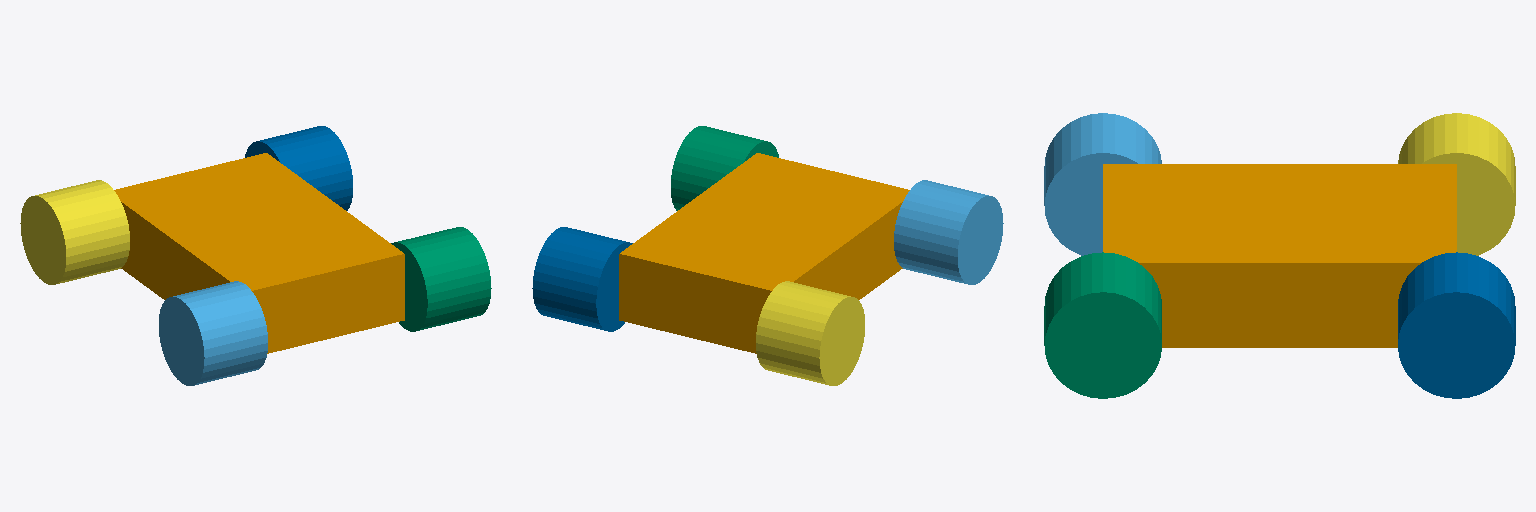
URDF robot description (test_robot):
<?xml version="1.0"?>
<robot name="test_robot">

  <link name="chassis">
    <inertial>
      <mass value="4.0" />
      <!-- center of mass (com) is defined w.r.t. link local coord system -->
      <origin xyz="0 0 0" />
      <inertia  ixx="1.0" ixy="0.0"  ixz="0.0"  iyy="100.0"  iyz="0.0"  izz="1.0" />
    </inertial>
    <visual>
       <!-- visual origin is defined w.r.t. link local coordinate system -->
       <origin xyz="0 0 0" rpy="0 0 0" />
       <geometry>
         <box size="0.5 0.75 0.2" />
       </geometry>
    </visual>
    <collision>
       <!-- collision origin is defined w.r.t. link local coord. system -->
       <origin xyz="0 0 0" rpy="0 0 0 " />
       <geometry>
         <box size="0.5 0.75 0.2" />
       </geometry>
    </collision>     
  </link>
  <gazebo reference="chassis">
    <material>Gazebo/Blue</material>
    <turnGravityOff>false</turnGravityOff>
  </gazebo>


  <link name="back_left_wheel">
    <inertial>
      <mass value="1.0" />
      <!-- center of mass (com) is defined w.r.t. link local coord system -->
      <origin xyz="0 0 0" />
      <inertia  ixx="1.0" ixy="0.0"  ixz="0.0"  iyy="100.0"  iyz="0.0"  izz="1.0" />
    </inertial>
    <visual>
       <!-- visual origin is defined w.r.t. link local coordinate system -->
       <origin xyz="0 0 0" rpy="0 0 0" />
       <geometry>
         <cylinder radius="0.125" length="0.2" />
       </geometry>
    </visual>
    <collision>
       <!-- collision origin is defined w.r.t. link local coord. system -->
       <origin xyz="0 0 0" rpy="0 0 0 " />
       <geometry>
         <cylinder radius="0.125" length="0.2" />
       </geometry>
    </collision>
  </link>
  <gazebo reference="back_left_wheel">
    <mu1>0.25</mu1>
    <mu2>0.025</mu2>
    <kp>10000.0</kp>
    <kd>1.0</kd>
    <material>Gazebo/Green</material>
    <turnGravityOff>false</turnGravityOff>
  </gazebo>

  <joint name="joint_back_left_wheel" type="continuous">
    <parent link="chassis"/>
    <child link="back_left_wheel"/>
    <origin xyz="-0.35 -0.375 0" rpy="0 -1.5708 0" />
    <axis xyz="0 0 1" />
  </joint>

  <link name="back_right_wheel">
    <inertial>
      <mass value="1.0" />
      <origin xyz="0 0 0" />
      <inertia  ixx="1.0" ixy="0.0"  ixz="0.0"  iyy="100.0"  iyz="0.0"  izz="1.0" />
    </inertial>
    <visual>
       <origin xyz="0 0 0" rpy="0 0 0" />
       <geometry>
         <cylinder radius="0.125" length="0.2" />
       </geometry>
    </visual>
    <collision>
       <origin xyz="0 0 0" rpy="0 0 0 " />
       <geometry>
         <cylinder radius="0.125" length="0.2" />
       </geometry>
    </collision>
  </link>
  <gazebo reference="back_right_wheel">
    <mu1>0.25</mu1>
    <mu2>0.025</mu2>
    <kp>10000.0</kp>
    <kd>1.0</kd>
    <material>Gazebo/Green</material>
    <turnGravityOff>false</turnGravityOff>
  </gazebo>

  <joint name="joint_back_right_wheel" type="continuous">
    <parent link="chassis"/>
    <child link="back_right_wheel"/>
    <origin xyz="0.35 -0.375 0" rpy="0 1.5708 0" />
    <axis xyz="0 0 1" />
  </joint>

  <link name="front_left_wheel">
    <inertial>
      <mass value="1.0" />
      <origin xyz="0 0 0" />
      <inertia  ixx="1.0" ixy="0.0"  ixz="0.0"  iyy="100.0"  iyz="0.0"  izz="1.0" />
    </inertial>
    <visual>
       <origin xyz="0 0 0" rpy="0 0 0" />
       <geometry>
         <cylinder radius="0.125" length="0.2" />
       </geometry>
    </visual>
    <collision>
       <origin xyz="0 0 0" rpy="0 0 0 " />
       <geometry>
         <cylinder radius="0.125" length="0.2" />
       </geometry>
    </collision>
  </link>
  <gazebo reference="front_left_wheel">
    <mu1>0.25</mu1>
    <mu2>0.025</mu2>
    <kp>10000.0</kp>
    <kd>1.0</kd>
    <material>Gazebo/Green</material>
    <turnGravityOff>false</turnGravityOff>
  </gazebo>

  <joint name="joint_front_left_wheel" type="continuous">
    <parent link="chassis"/>
    <child link="front_left_wheel"/>
    <origin xyz="-0.35 0.375 0" rpy="0 -1.5708 0" />
    <axis xyz="0 0 1" />
  </joint>

  <link name="front_right_wheel">
    <inertial>
      <mass value="1.0" />
      <origin xyz="0 0 0" />
      <inertia  ixx="1.0" ixy="0.0"  ixz="0.0"  iyy="100.0"  iyz="0.0"  izz="1.0" />
    </inertial>
    <visual>
       <origin xyz="0 0 0" rpy="0 0 0" />
       <geometry>
         <cylinder radius="0.125" length="0.2" />
       </geometry>
    </visual>
    <collision>
       <origin xyz="0 0 0" rpy="0 0 0 " />
       <geometry>
         <cylinder radius="0.125" length="0.2" />
       </geometry>
    </collision>
  </link>
  <gazebo reference="front_right_wheel">
    <mu1>0.25</mu1>
    <mu2>0.025</mu2>
    <kp>10000.0</kp>
    <kd>1.0</kd>
    <material>Gazebo/Green</material>
    <turnGravityOff>false</turnGravityOff>
  </gazebo>
  <joint name="joint_front_right_wheel" type="continuous">
    <parent link="chassis"/>
    <child link="front_right_wheel"/>
    <origin xyz="0.35 0.375 0" rpy="0 1.5708 0" />
    <axis xyz="0 0 1" />
  </joint>

</robot>

--- Facts derived from the render (not from the file) ---
3 views of the same robot in one strip: view 1: azimuth 30°, elevation 25°; view 2: azimuth 150°, elevation 25°; view 3: azimuth 270°, elevation 25° (orthographic).
Model test_robot with 5 links and 4 joints (4 continuous), rooted at chassis, posed every joint at zero.
Links seen in each view (by area): view 1: chassis, back_left_wheel, front_left_wheel, back_right_wheel, front_right_wheel; view 2: chassis, front_left_wheel, back_left_wheel, front_right_wheel, back_right_wheel; view 3: chassis, back_right_wheel, front_right_wheel, back_left_wheel, front_left_wheel.
Boxes of the visible links, x1,y1,x2,y2 form: chassis: (114,153,404,353); back_left_wheel: (159,281,267,385); front_left_wheel: (20,180,129,284); back_right_wheel: (391,227,491,331); front_right_wheel: (245,126,352,210); chassis: (619,153,909,353); front_left_wheel: (756,281,864,385); back_left_wheel: (894,180,1003,284); front_right_wheel: (532,227,632,331); back_right_wheel: (671,126,778,210); chassis: (1103,164,1456,347); back_right_wheel: (1044,252,1161,398); front_right_wheel: (1398,252,1515,398); back_left_wheel: (1044,113,1161,255); front_left_wheel: (1398,113,1515,255).
Bounding box of the posed robot: 0.9 × 1 × 0.25 m (x, y, z).
Geometry: primitives only (box / cylinder / sphere), no mesh files.
